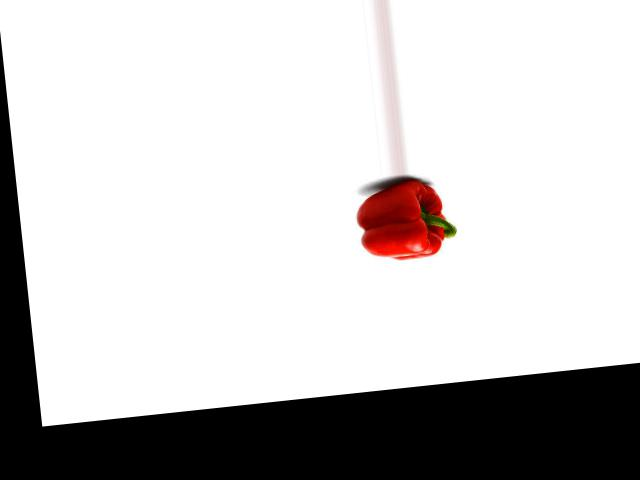bell_pepper: (345, 176, 464, 264)
